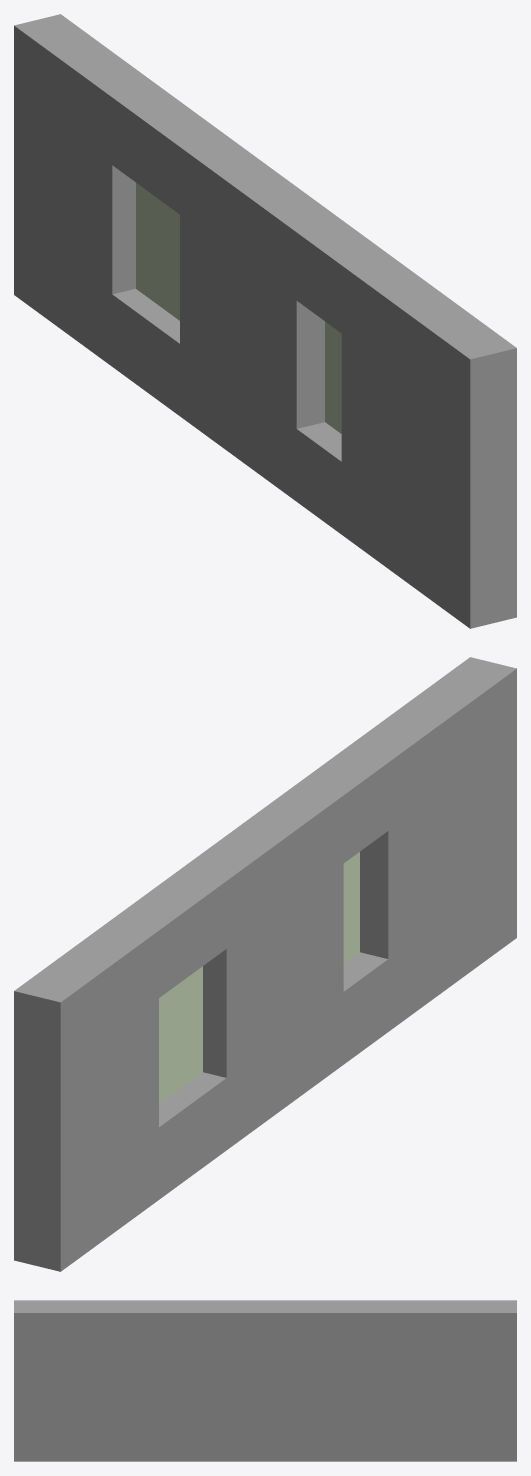
File: CafeWall2.fbx
3 views of the same model, one above another, from view 1: azimuth 30°, elevation 25°; view 2: azimuth 150°, elevation 25°; view 3: azimuth 270°, elevation 25° (orthographic). The views are drawn at different scales.
Visible parts, largest first — view 1: pCube4; view 2: pCube4; view 3: pCube4.
Boxes of the visible parts, x1,y1,x2,y2 form: pCube4: (14,14,516,628); pCube4: (14,657,516,1271); pCube4: (14,1300,516,1461).
Bounding box in the file's own units: 32.44 × 179 × 548.
